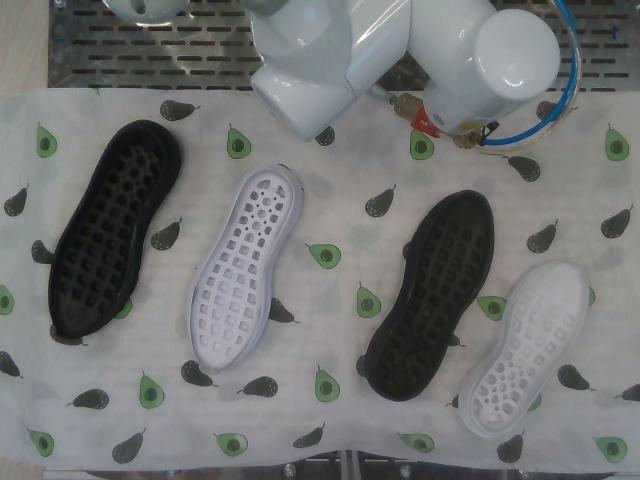shoes: (49, 129, 167, 338), (375, 191, 492, 398), (190, 168, 293, 374), (472, 259, 589, 433)
